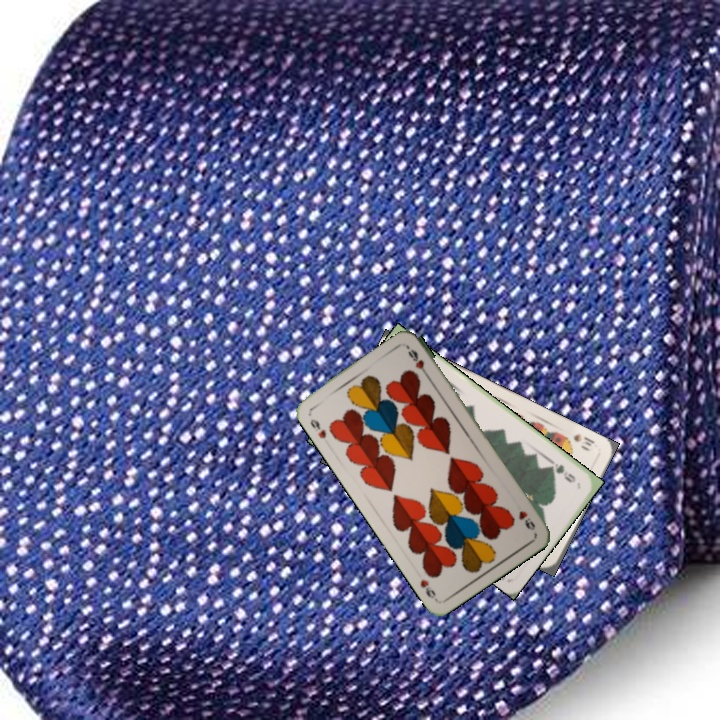G9: (546, 457, 578, 485)
H9: (514, 506, 538, 533), (306, 415, 329, 441)
S10: (569, 429, 597, 454)
